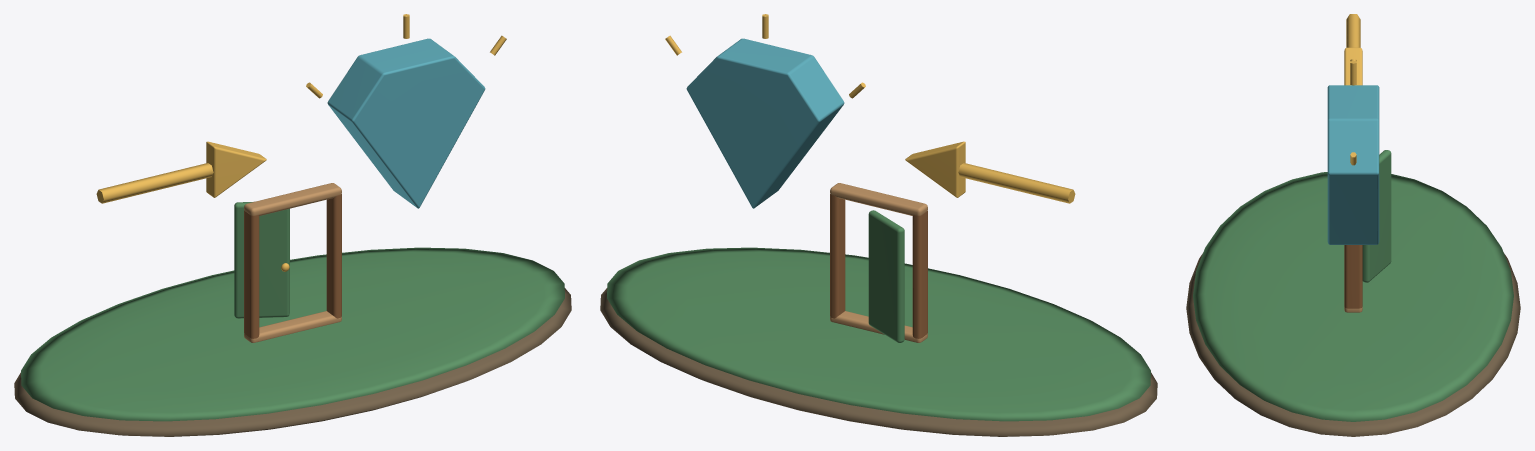
Rendered from complete-first-exit-appears.glb.
The picture shows the model from 3 angles, left to right: view 1: azimuth 30°, elevation 25°; view 2: azimuth 150°, elevation 25°; view 3: azimuth 270°, elevation 25°; orthographic projection.
Parts seen in each view (by area): view 1: complete-first-exit-appears_surface_01, complete-first-exit-appears_surface_03, complete-first-exit-appears_surface_00, complete-first-exit-appears_surface_02, complete-first-exit-appears_surface_04, complete-first-exit-appears_surface_05; view 2: complete-first-exit-appears_surface_01, complete-first-exit-appears_surface_03, complete-first-exit-appears_surface_00, complete-first-exit-appears_surface_02, complete-first-exit-appears_surface_04, complete-first-exit-appears_surface_05; view 3: complete-first-exit-appears_surface_01, complete-first-exit-appears_surface_03, complete-first-exit-appears_surface_00, complete-first-exit-appears_surface_02, complete-first-exit-appears_surface_04.
Part boxes in pixels (x1,y1,x2,y2): complete-first-exit-appears_surface_01: (21, 202, 564, 421); complete-first-exit-appears_surface_03: (327, 38, 485, 208); complete-first-exit-appears_surface_00: (14, 288, 571, 436); complete-first-exit-appears_surface_02: (96, 14, 506, 271); complete-first-exit-appears_surface_04: (244, 194, 341, 338); complete-first-exit-appears_surface_05: (244, 183, 341, 342); complete-first-exit-appears_surface_01: (607, 210, 1150, 421); complete-first-exit-appears_surface_03: (686, 38, 844, 208); complete-first-exit-appears_surface_00: (600, 288, 1157, 436); complete-first-exit-appears_surface_02: (665, 14, 1075, 203); complete-first-exit-appears_surface_04: (830, 194, 927, 338); complete-first-exit-appears_surface_05: (830, 183, 927, 342); complete-first-exit-appears_surface_01: (1193, 150, 1513, 421); complete-first-exit-appears_surface_03: (1327, 85, 1379, 244); complete-first-exit-appears_surface_00: (1186, 253, 1520, 436); complete-first-exit-appears_surface_02: (1344, 14, 1362, 165); complete-first-exit-appears_surface_04: (1344, 245, 1362, 308).
Bounding box in the file's own units: 4.56 × 2.61 × 2.5.
